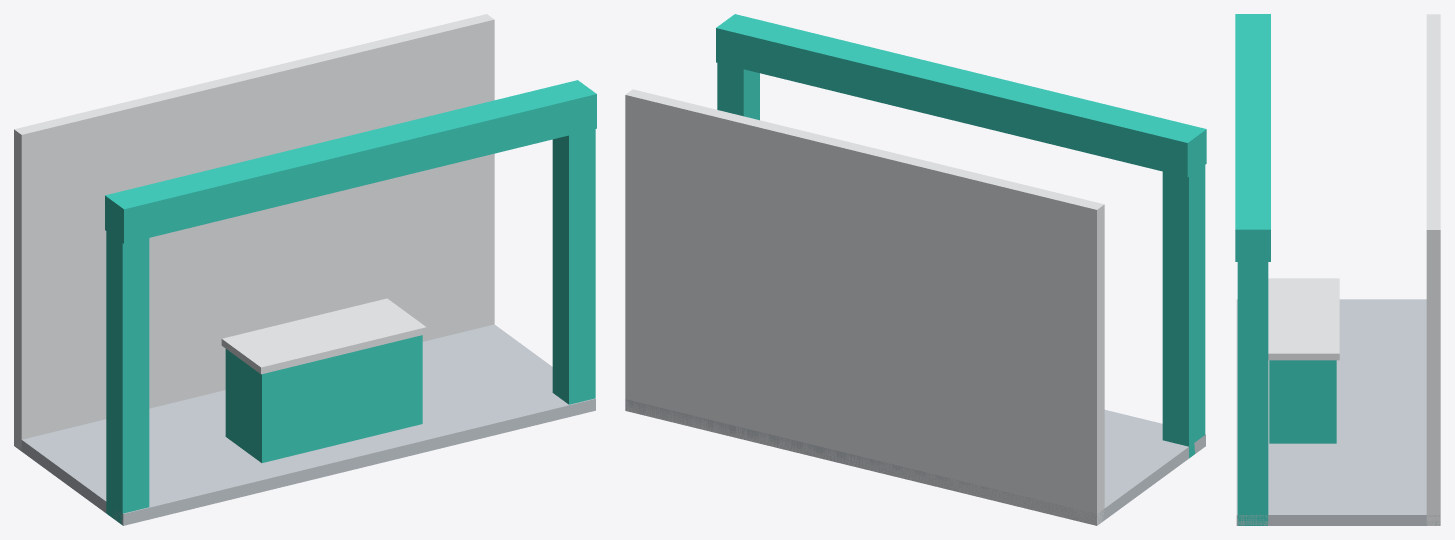
3 views of the same model, side by side, from view 1: azimuth 30°, elevation 25°; view 2: azimuth 150°, elevation 25°; view 3: azimuth 270°, elevation 25° (orthographic). The views are drawn at different scales.
Parts seen in each view (by area): view 1: Exhibition Booth Concept; view 2: Exhibition Booth Concept; view 3: Exhibition Booth Concept.
Boxes of the visible parts, x1,y1,x2,y2 form: Exhibition Booth Concept: [14, 14, 596, 525]; Exhibition Booth Concept: [625, 14, 1206, 525]; Exhibition Booth Concept: [1235, 14, 1440, 525].
Bounding box in the file's own units: 5 × 3.2 × 2.01.
